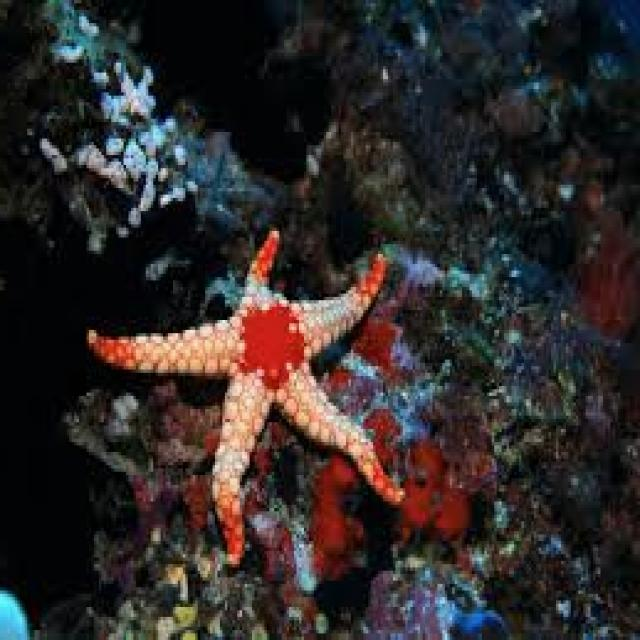starfish: (89, 231, 405, 561)
